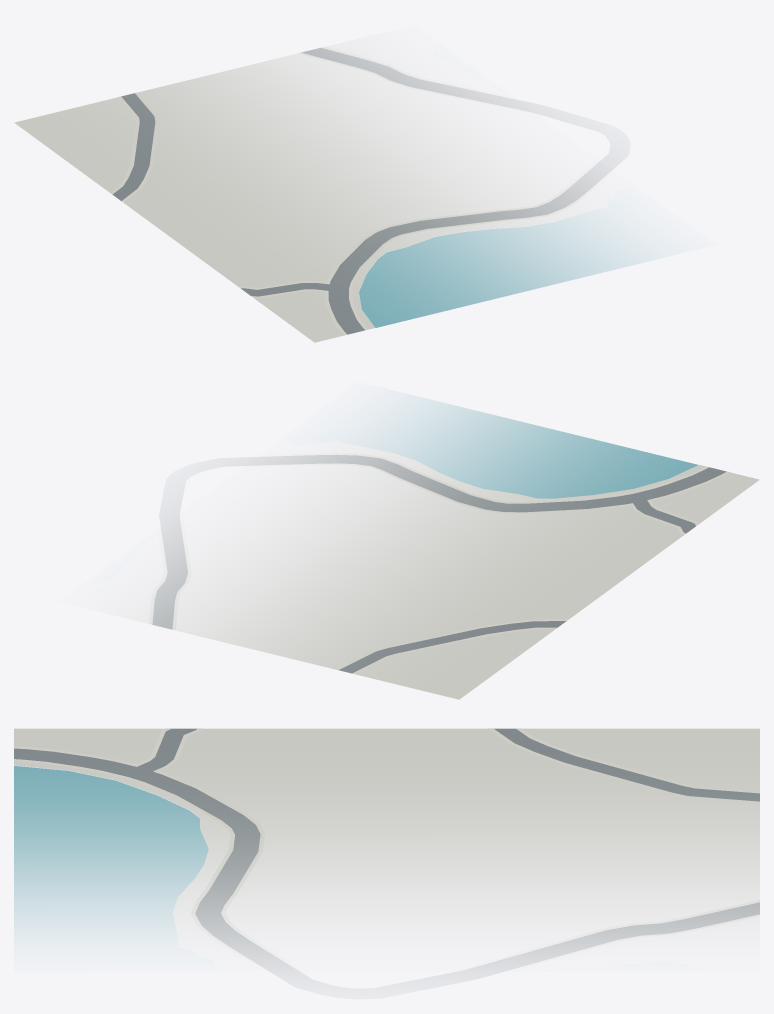
3 views of the same model, one above another, from view 1: azimuth 30°, elevation 25°; view 2: azimuth 150°, elevation 25°; view 3: azimuth 270°, elevation 25° (orthographic). The views are drawn at different scales.
Parts seen in each view (by area): view 1: city; view 2: city; view 3: city.
Part boxes in pixels (x1=…): city: x1=14, y1=40, x2=654, y2=342; city: x1=119, y1=397, x2=759, y2=699; city: x1=14, y1=728, x2=759, y2=982.
Bounding box in the file's own units: 430 × 0.4 × 500.
